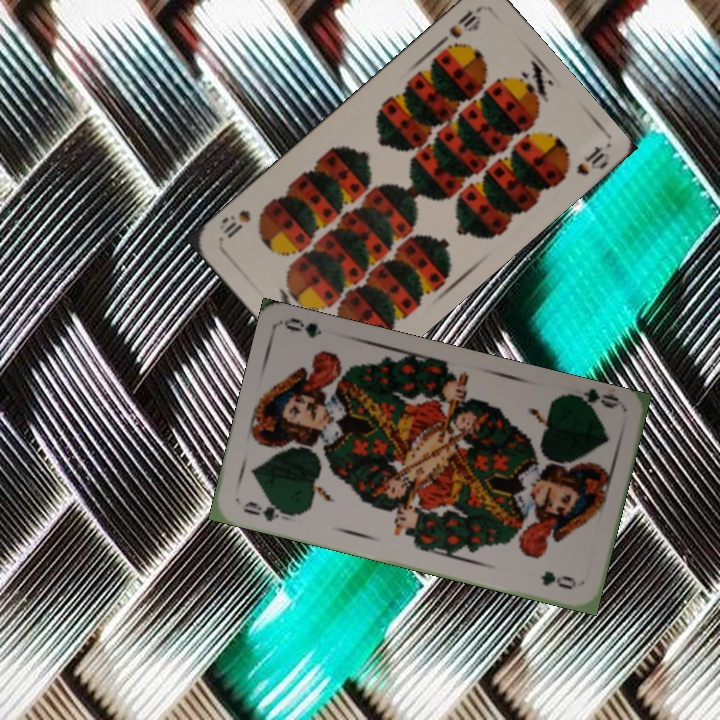GO: (563, 386, 623, 415), (239, 497, 296, 524)
S10: (444, 4, 483, 42)
